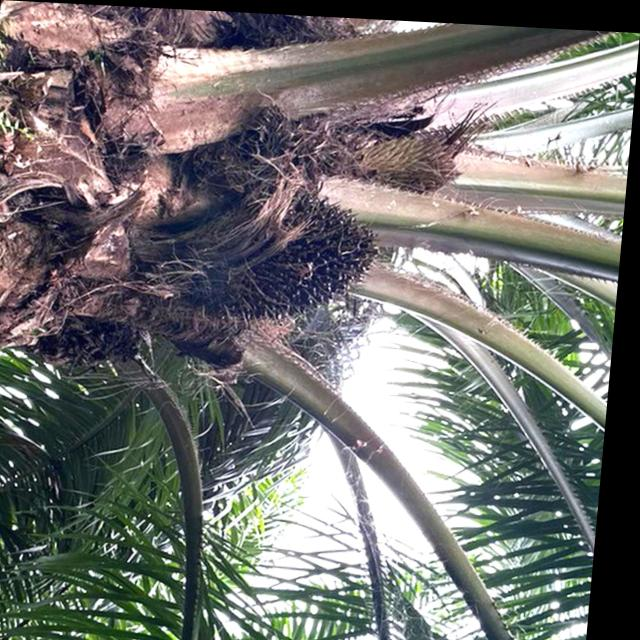unripe: (200, 184, 388, 335)
